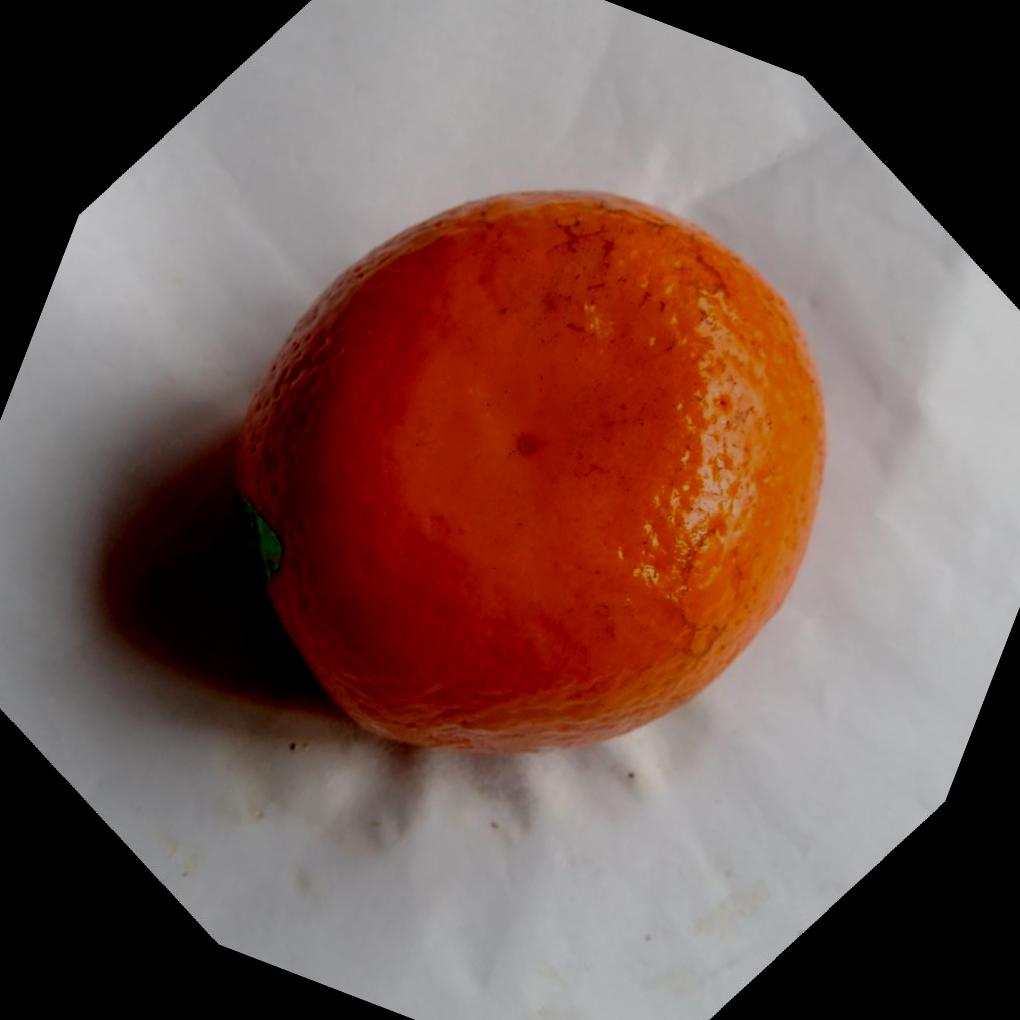FreshOrange: (228, 185, 827, 756)
